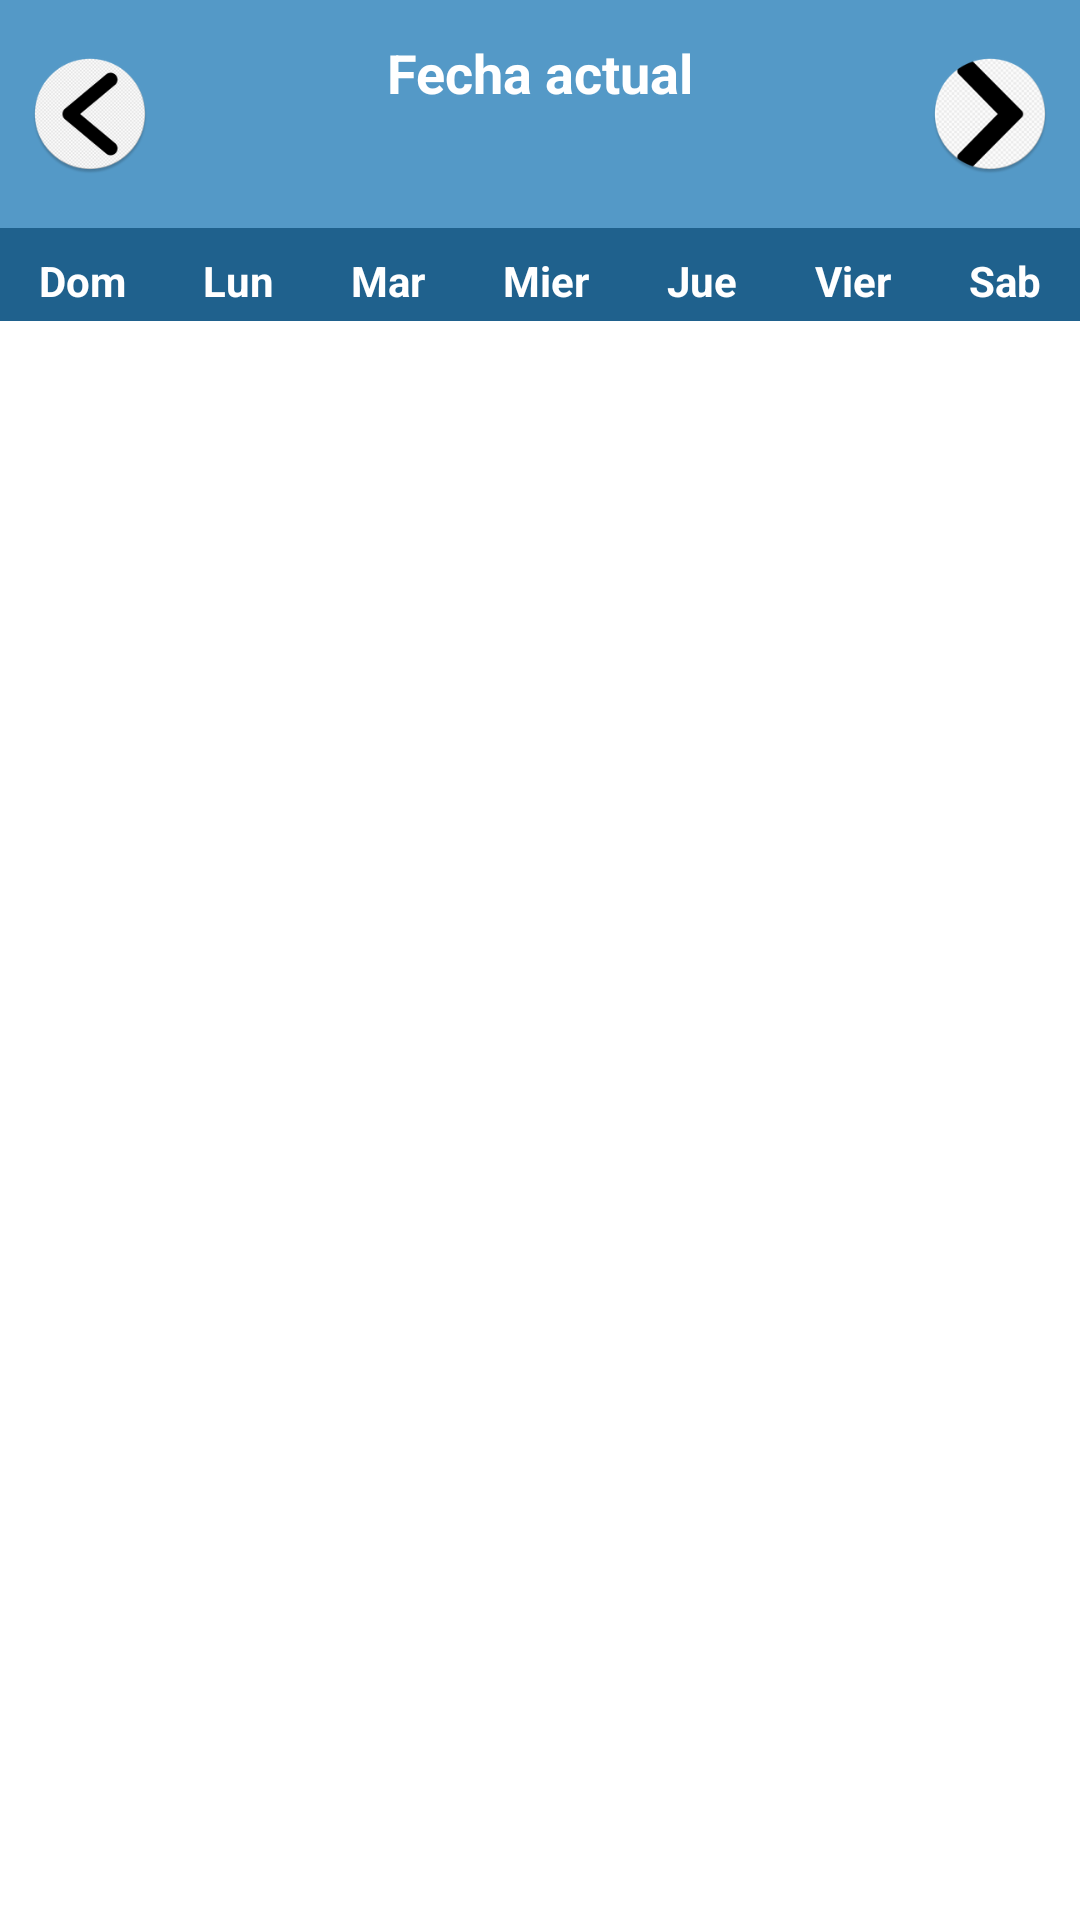

Point at icon controls on the screen. Image size 1080 x 1920, points as [x,y].
next: [990,115]
previous: [90,115]
